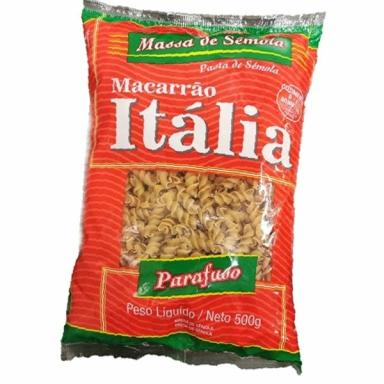pasta package: (63, 1, 323, 372)
